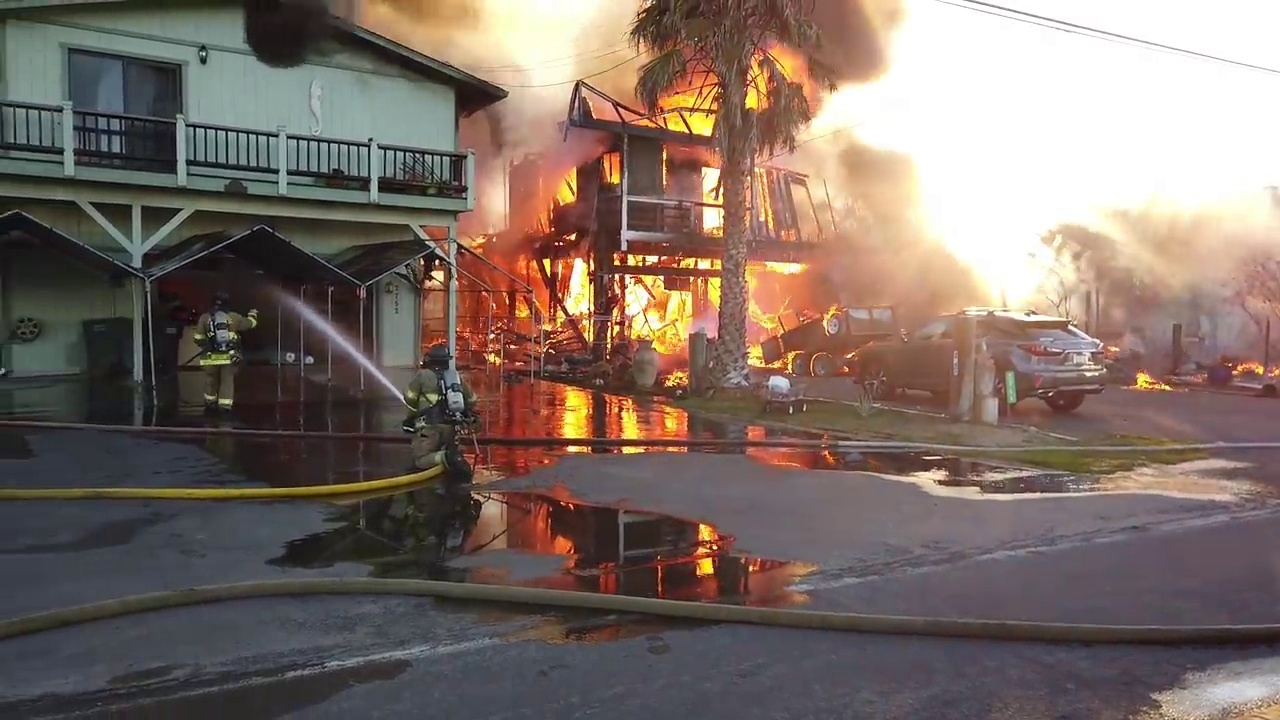fire: (743, 250, 880, 372), (546, 378, 690, 448), (968, 225, 1076, 315), (508, 245, 593, 337), (618, 261, 692, 350), (646, 75, 718, 132), (538, 158, 581, 228), (684, 515, 730, 573), (699, 166, 727, 235), (541, 509, 578, 561), (1123, 369, 1178, 390), (756, 253, 805, 271), (1227, 358, 1279, 374), (661, 363, 690, 387)
smoke: (774, 1, 973, 299), (1078, 152, 1280, 351)
